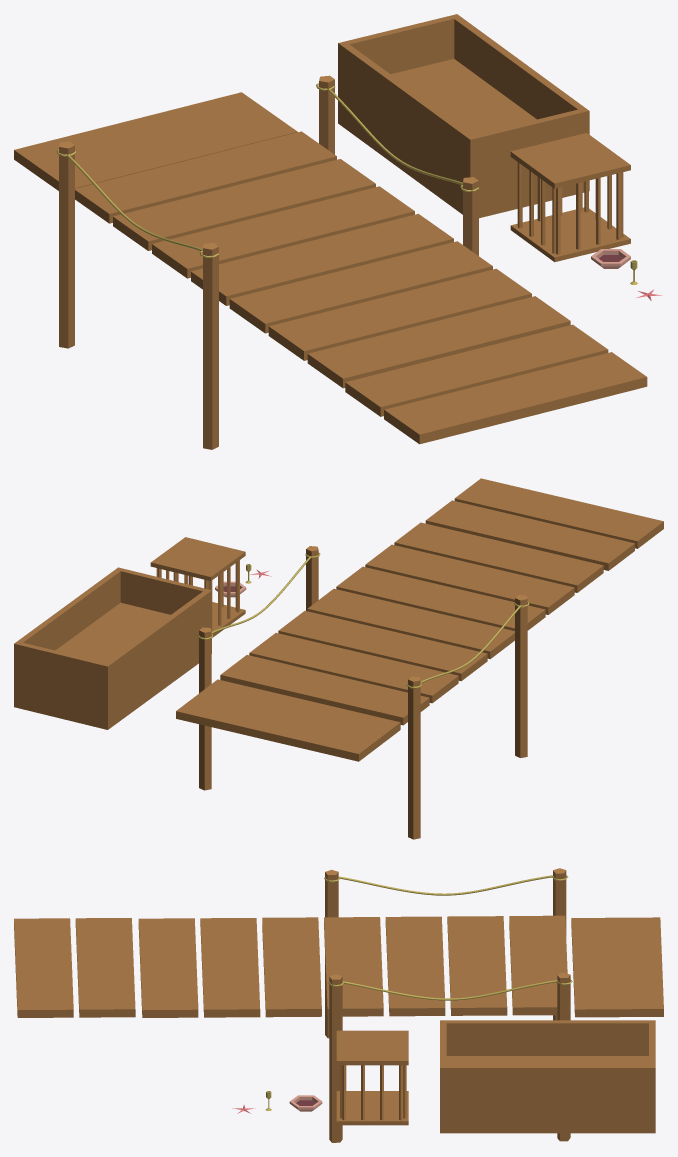
File: Asset finali.fbx
The picture shows the model from 3 angles, top to bottom: view 1: azimuth 30°, elevation 25°; view 2: azimuth 150°, elevation 25°; view 3: azimuth 270°, elevation 25°; orthographic projection. The views are drawn at different scales.
Visible parts, largest first — view 1: Cordoni, Cube, Gabbia; view 2: Cordoni, Cube, Gabbia; view 3: Cordoni, Cube, Gabbia, Ciotola.
Part boxes in pixels (left/top/right/bottom): Cordoni: left=14, top=75, right=647, bottom=449; Cube: left=338, top=14, right=589, bottom=218; Gabbia: left=510, top=133, right=630, bottom=262; Cordoni: left=176, top=478, right=663, bottom=839; Cube: left=14, top=567, right=211, bottom=729; Gabbia: left=150, top=537, right=245, bottom=637; Cordoni: left=14, top=868, right=663, bottom=1142; Cube: left=440, top=1020, right=655, bottom=1133; Gabbia: left=336, top=1030, right=408, bottom=1125; Ciotola: left=289, top=1095, right=322, bottom=1111.
Size of the model in its own units: 3.98 by 6 by 1.66.
